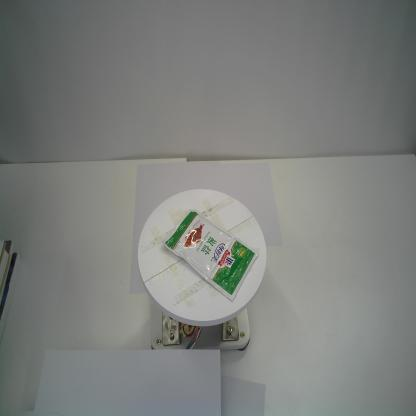Seasoner: (162, 208, 259, 302)
